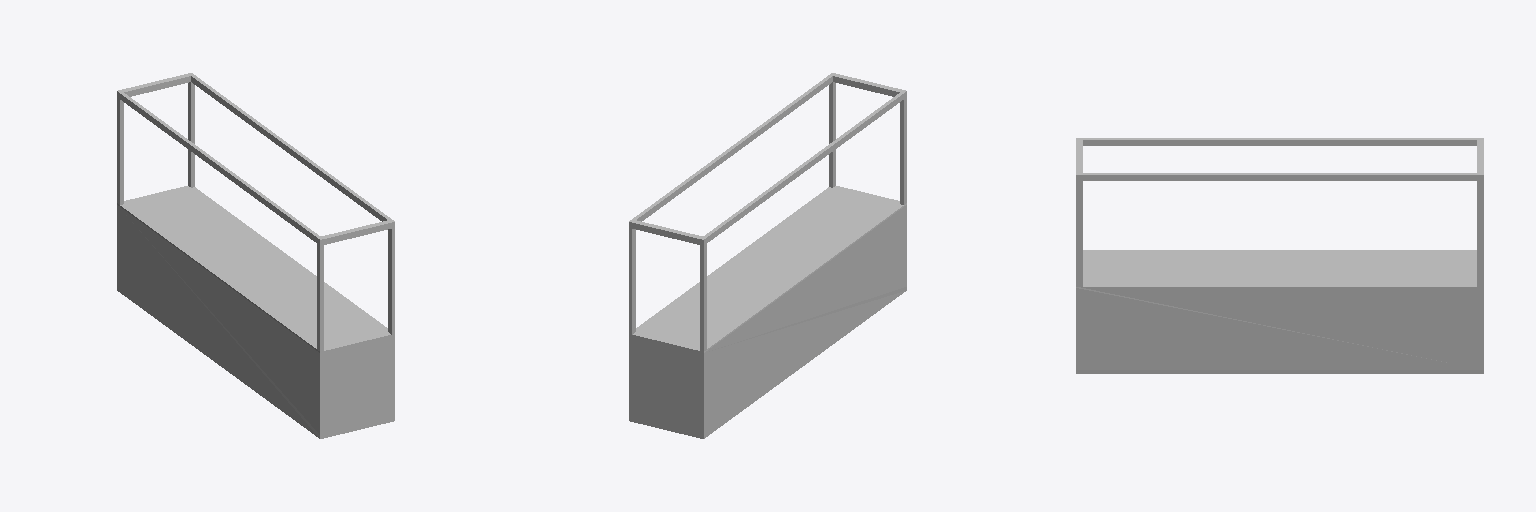
File: cabinet_v1.obj
3 views of the same model, side by side, from view 1: azimuth 30°, elevation 25°; view 2: azimuth 150°, elevation 25°; view 3: azimuth 270°, elevation 25° (orthographic).
Visible parts, largest first — view 1: cabinet2_base1 cabinet3 cabinets; view 2: cabinet2_base1 cabinet3 cabinets; view 3: cabinet2_base1 cabinet3 cabinets.
Boxes of the visible parts, x1,y1,x2,y2 form: cabinet2_base1 cabinet3 cabinets: [117, 73, 394, 438]; cabinet2_base1 cabinet3 cabinets: [629, 73, 906, 438]; cabinet2_base1 cabinet3 cabinets: [1076, 138, 1483, 373].
Size of the model in its own units: 4 by 10.15 by 18.79.